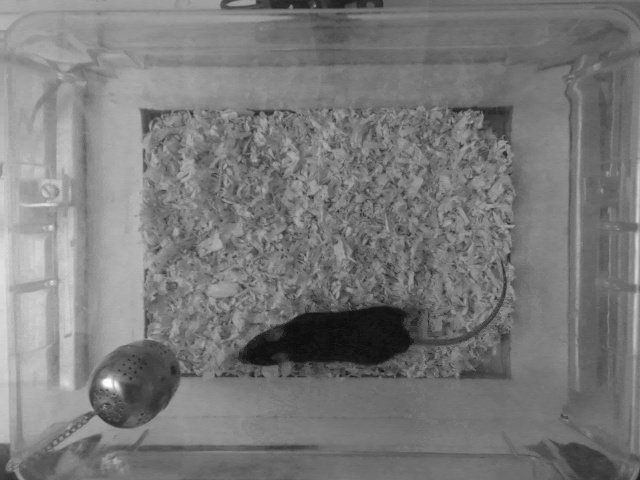mice: (236, 254, 508, 373)
